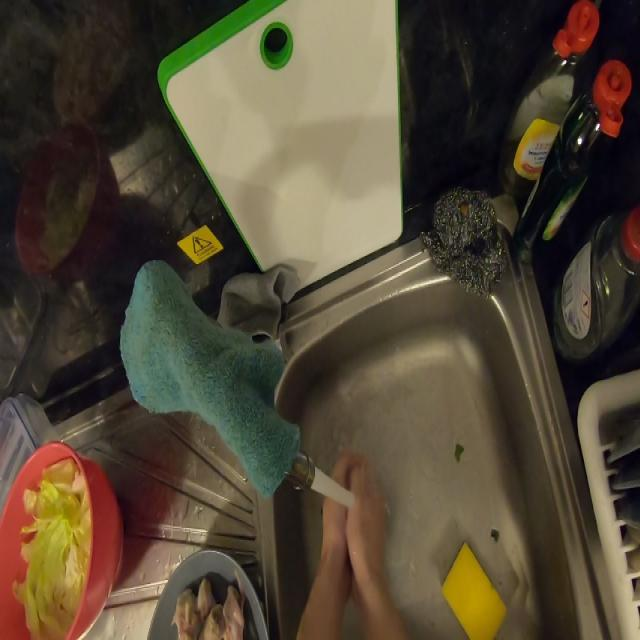cloth: (116, 260, 288, 492)
cutting board: (157, 11, 416, 271)
dish soap: (506, 12, 637, 309)
sponge: (441, 534, 502, 640)
